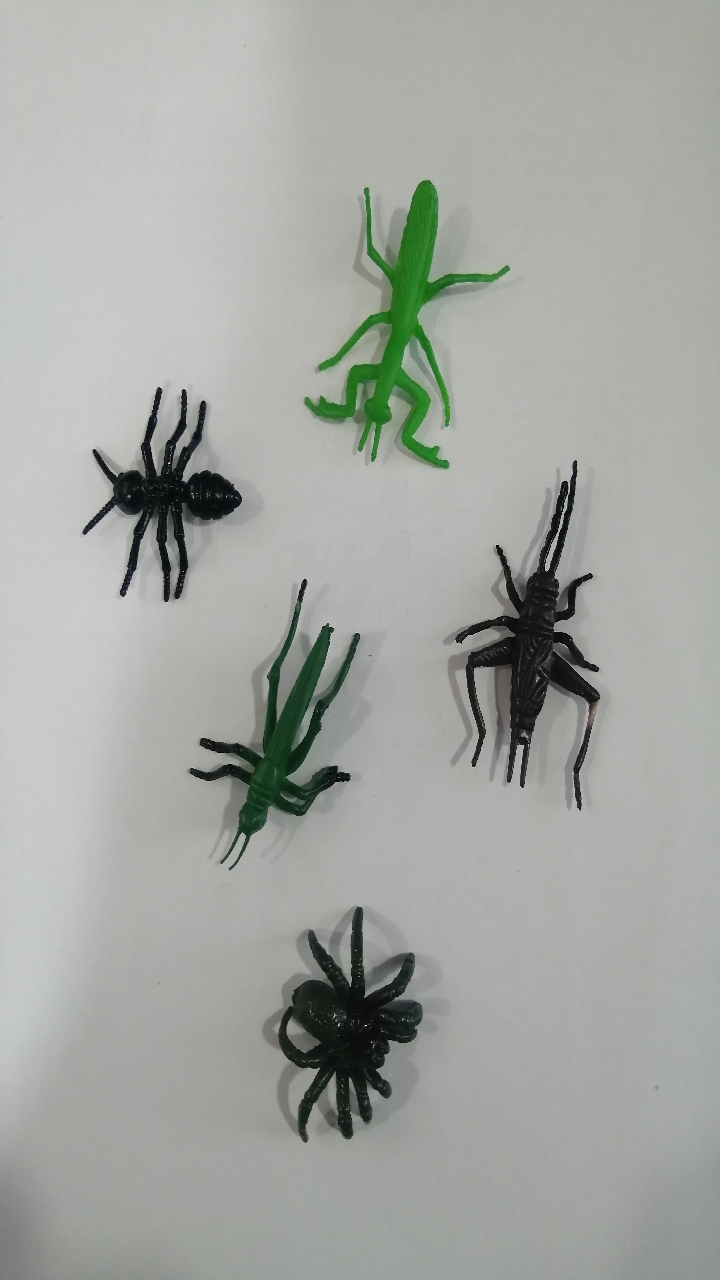intruso: (404, 455, 629, 825), (277, 145, 517, 489), (169, 569, 388, 897), (237, 886, 461, 1169), (44, 366, 252, 620)
